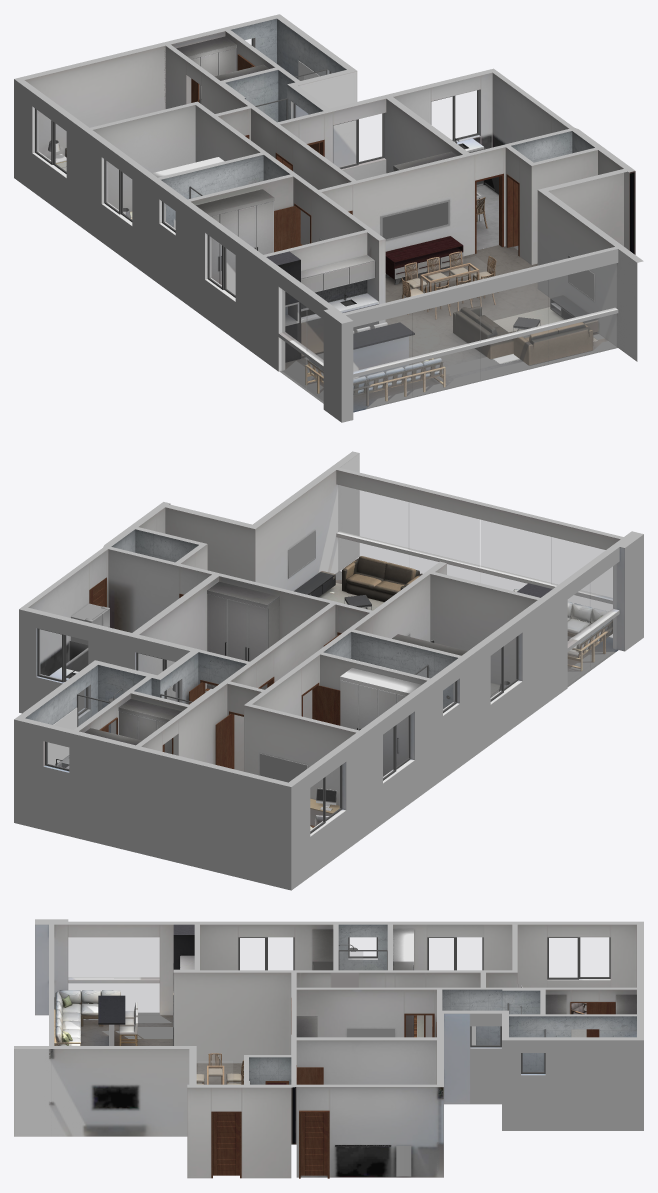
File: 4Bedroom2.glb
The picture shows the model from 3 angles, top to bottom: view 1: azimuth 30°, elevation 25°; view 2: azimuth 150°, elevation 25°; view 3: azimuth 270°, elevation 25°; orthographic projection. The views are drawn at different scales.
Visible parts, largest first — view 1: Layer:P06, Object163_parede_0, ee93, Object162_parede_0, Plane013, Object125_Material #2146796781_0, Box172, Object160_Material #2146779762_0, Object149_Material #2146779762_0, Object159_Material #2146779762_0, Object179_Material #2146796779_0, ee93_Material #2146796780_0.001 (+6 smaller); view 2: Layer:P06, Object163_parede_0, ee93, Object162_parede_0, Object125_Material #2146796781_0, Box172, Object160_Material #2146779762_0, Object149_Material #2146779762_0, Object159_Material #2146779762_0, Object172_Material #2146796550 [ee93]_0, PivotDoor011, PivotDoor014 (+4 smaller); view 3: Layer:P06, Object163_parede_0, Object162_parede_0, ee93, Object125_Material #2146796781_0, Plane013, Object098_Material #2146779925_0.001, Object098_Material #2146779925_0, Object160_Material #2146779762_0, Box172, Object179_Material #2146796779_0, Object159_Material #2146779762_0 (+8 smaller).
Boxes of the visible parts, x1,y1,x2,y2 form: Layer:P06: (24,31,637,374); Object163_parede_0: (14,79,618,422); ee93: (65,36,598,406); Object162_parede_0: (14,14,643,323); Plane013: (280,245,617,412); Object125_Material #2146796781_0: (161,18,594,228); Box172: (306,263,616,362); Object160_Material #2146779762_0: (282,280,548,372); Object149_Material #2146779762_0: (306,314,616,400); Object159_Material #2146779762_0: (281,330,548,410); Object179_Material #2146796779_0: (93,105,195,211); ee93_Material #2146796780_0.001: (47,140,479,310); Layer:P06: (28,453,624,836); Object163_parede_0: (14,534,643,890); ee93: (49,556,612,813); Object162_parede_0: (14,451,643,786); Object125_Material #2146796781_0: (25,529,457,763); Box172: (338,485,616,627); Object160_Material #2146779762_0: (409,502,612,643); Object149_Material #2146779762_0: (338,538,616,667); Object159_Material #2146779762_0: (409,555,612,684); Object172_Material #2146796550 [ee93]_0: (260,530,410,782); PivotDoor011: (301,683,340,725); PivotDoor014: (215,711,243,768); Layer:P06: (14,924,636,1178); Object163_parede_0: (470,1013,643,1130); Object162_parede_0: (14,919,643,1087); ee93: (54,924,636,1146); Object125_Material #2146796781_0: (249,924,636,1084); Plane013: (56,1012,243,1084); Object098_Material #2146779925_0.001: (299,1110,329,1178); Object098_Material #2146779925_0: (211,1111,241,1178); Object160_Material #2146779762_0: (114,937,159,978); Box172: (68,937,113,978); Object179_Material #2146796779_0: (427,924,610,1010); Object159_Material #2146779762_0: (114,983,159,1013).
Bounding box in the file's own units: 11.36 × 2.86 × 17.95.
Materials: 24 (10 with a texture image).
